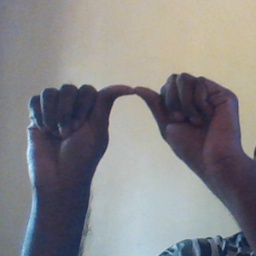A: (24, 68, 247, 198)
